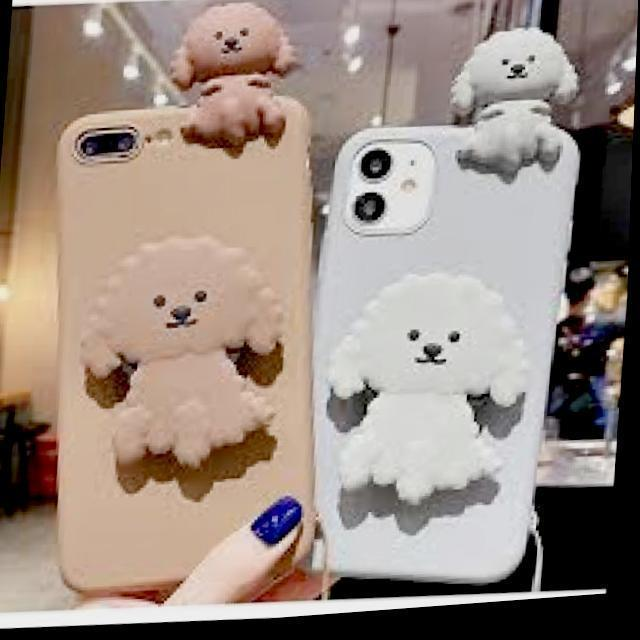Mobile: (299, 120, 583, 588), (48, 93, 312, 596)
